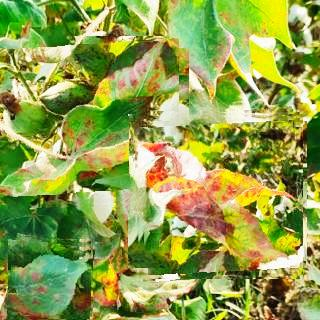blight: (8, 36, 179, 208), (133, 110, 303, 279), (7, 234, 93, 319)
